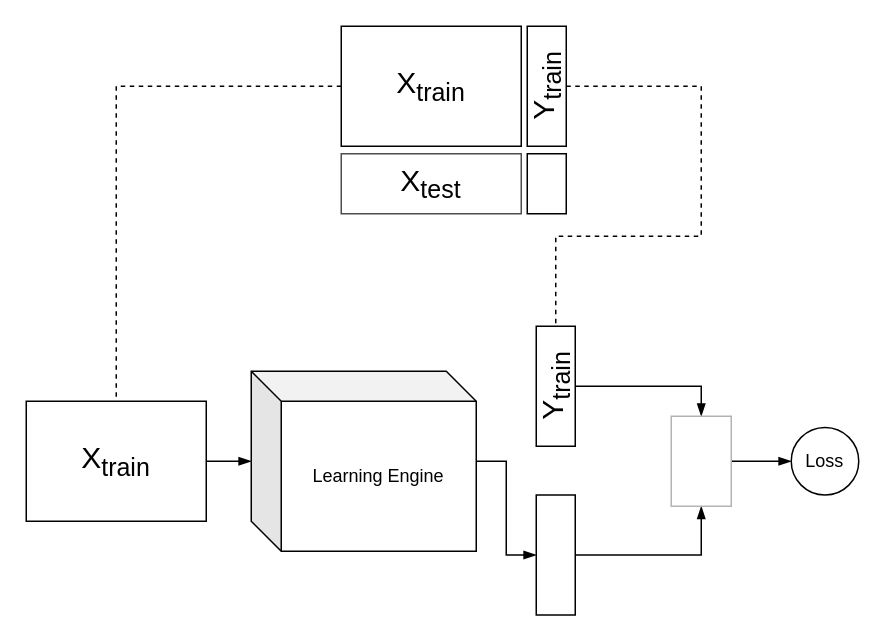
Image size: 885x642. Some labels were removed from this diagram. Here are the shapes that lost their labels. From the top down, the box of each, then its label:
(526, 152, 566, 214): Y test
(670, 415, 731, 506): Error
(535, 494, 575, 615): Y pred
